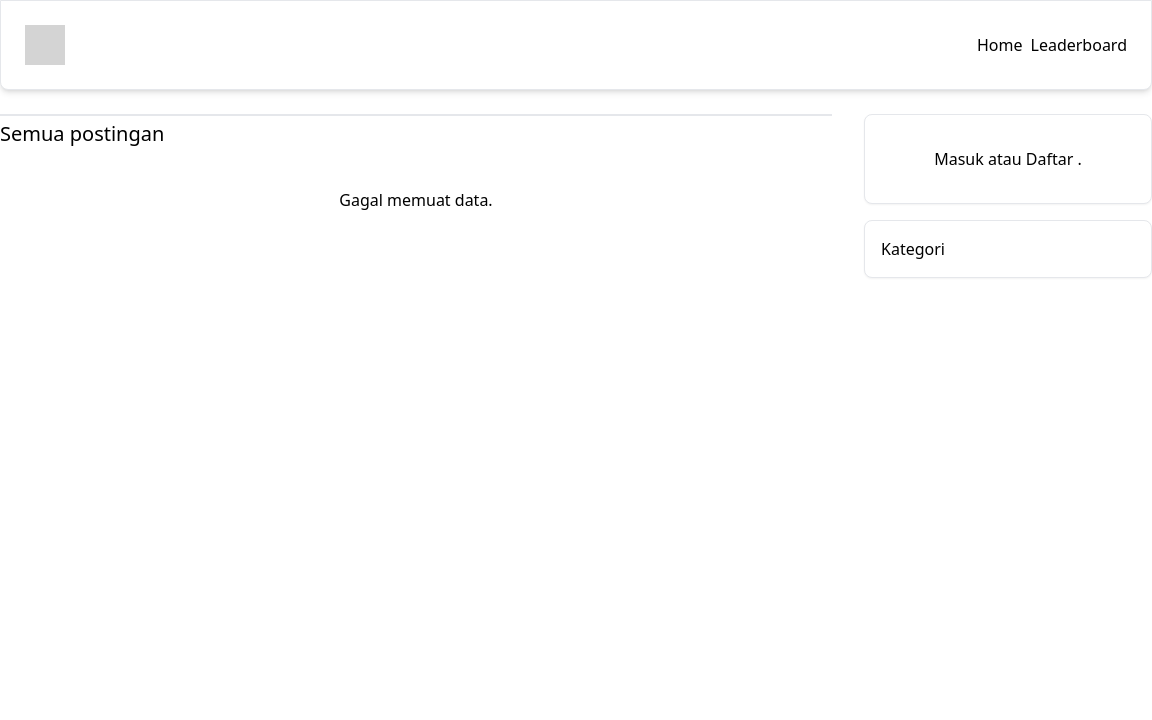
Test: Login › Should display login modal.
This screenshot has width=1152, height=720.
Click the button "Masuk".
click(959, 159)  # box [934, 147, 984, 171]
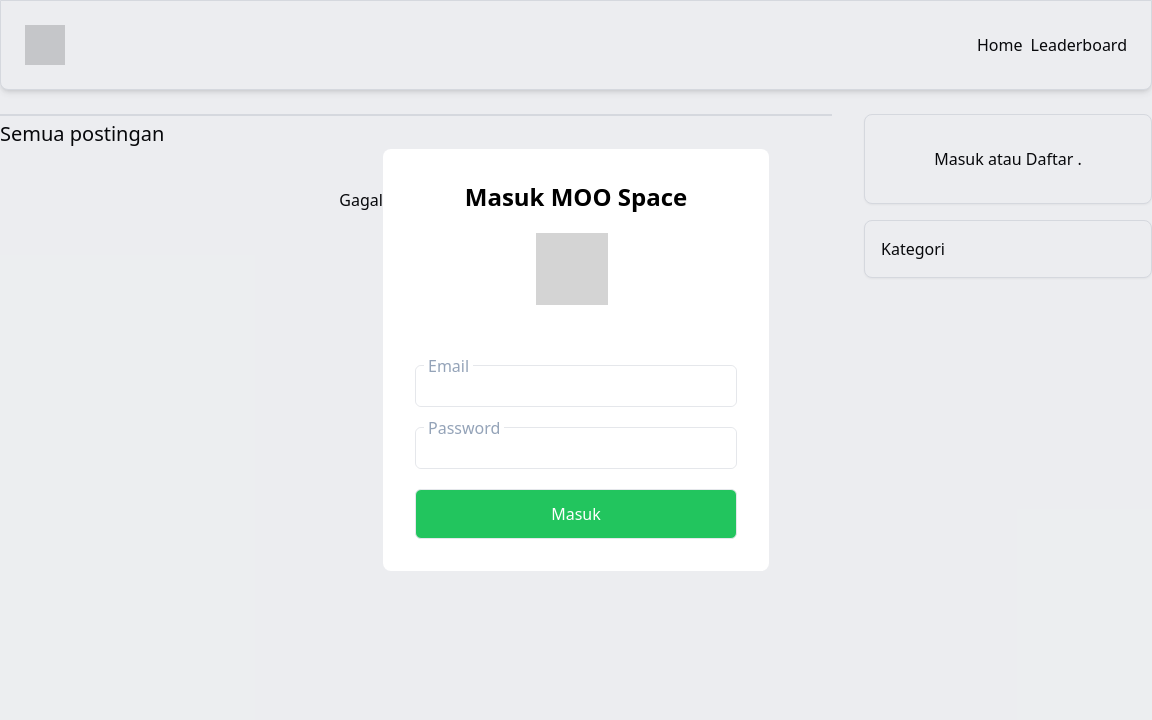
Result: the heading "Masuk MOO Space" is shown at [465, 181, 687, 213]
